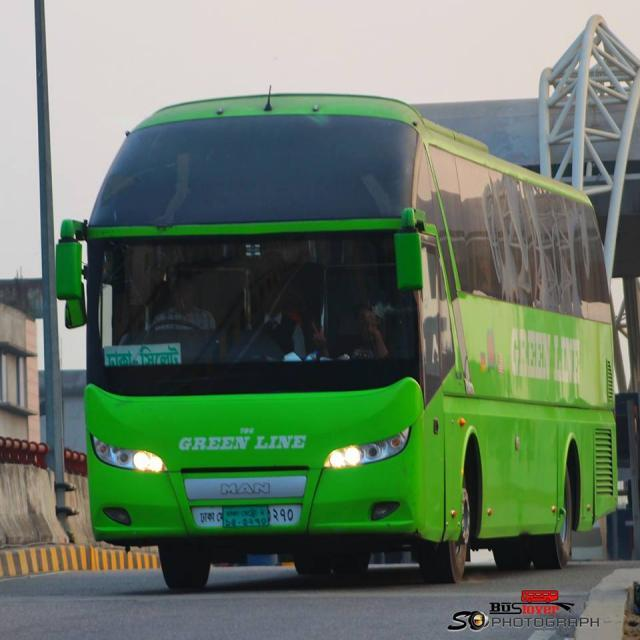bus: (55, 92, 619, 589)
